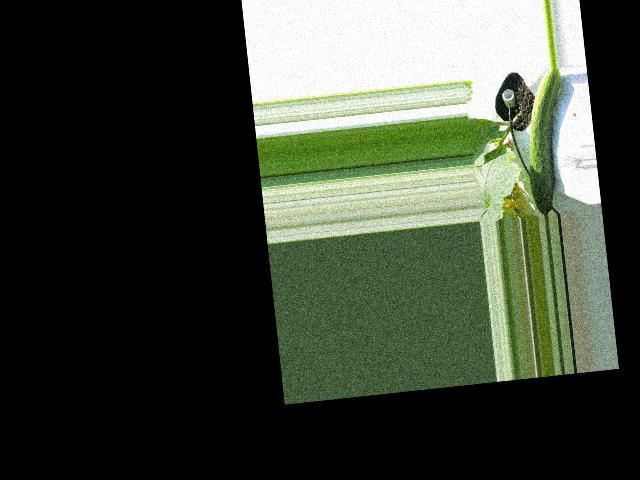cucumber: (518, 64, 575, 216)
